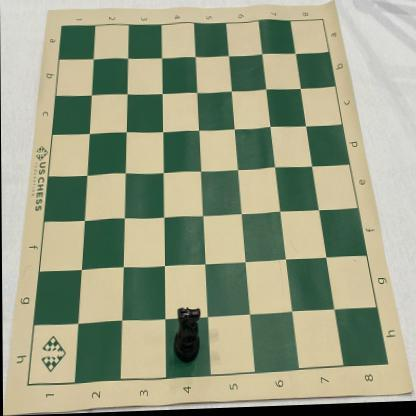black-knight: (173, 308, 201, 367)
